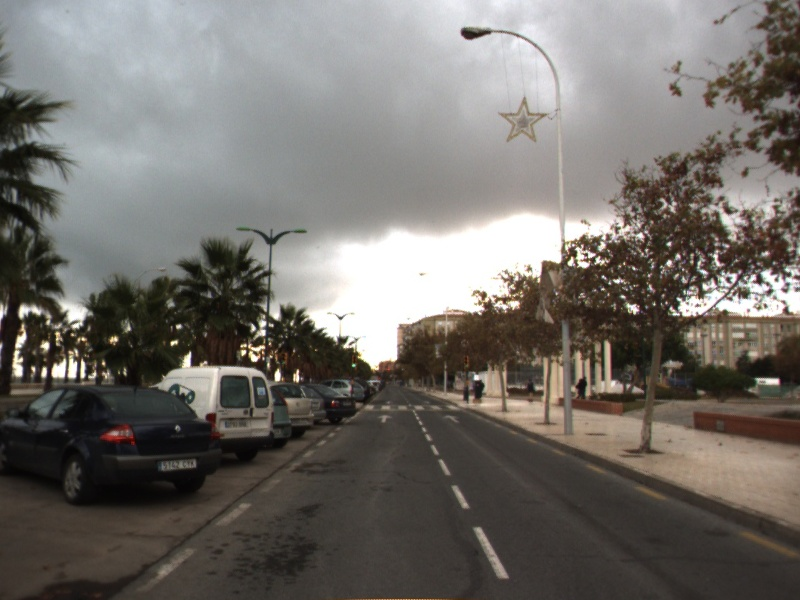STRAIGHT: (441, 413, 463, 425), (376, 413, 395, 425)
